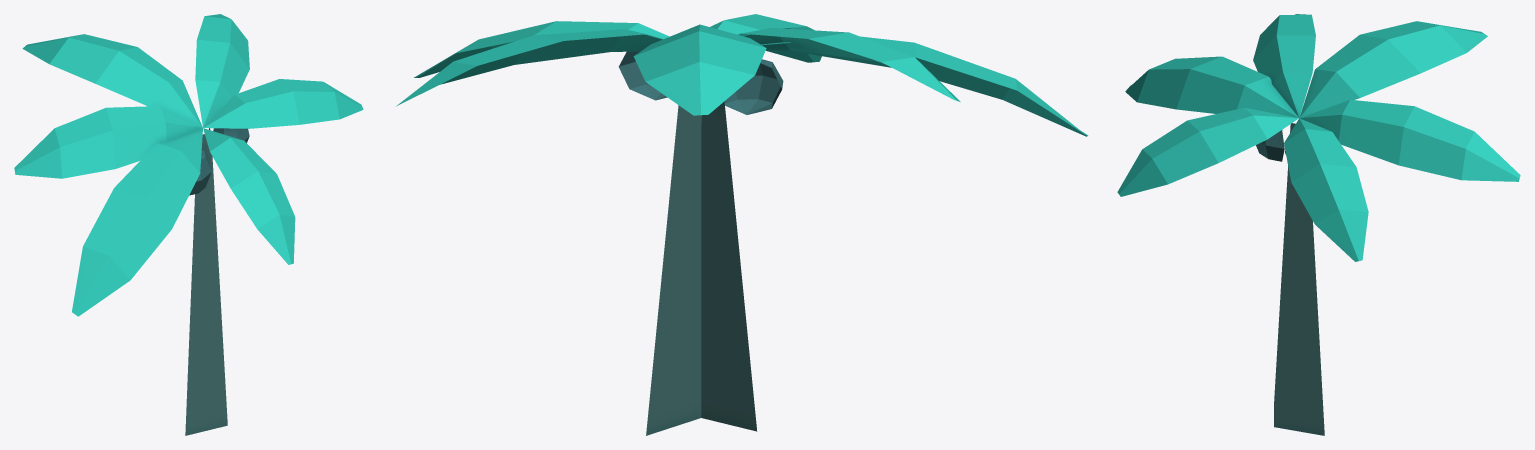
The model's file is Tree_08.FBX.
The picture shows the model from 3 angles, left to right: view 1: azimuth 30°, elevation 25°; view 2: azimuth 150°, elevation 25°; view 3: azimuth 270°, elevation 25°; orthographic projection. The views are drawn at different scales.
Parts seen in each view (by area): view 1: Tree_08; view 2: Tree_08; view 3: Tree_08.
Boxes of the visible parts, x1,y1,x2,y2 form: Tree_08: (14, 14, 363, 435); Tree_08: (396, 14, 1088, 435); Tree_08: (1117, 14, 1520, 435).
Bounding box in the file's own units: 22.63 × 18.78 × 18.97.
